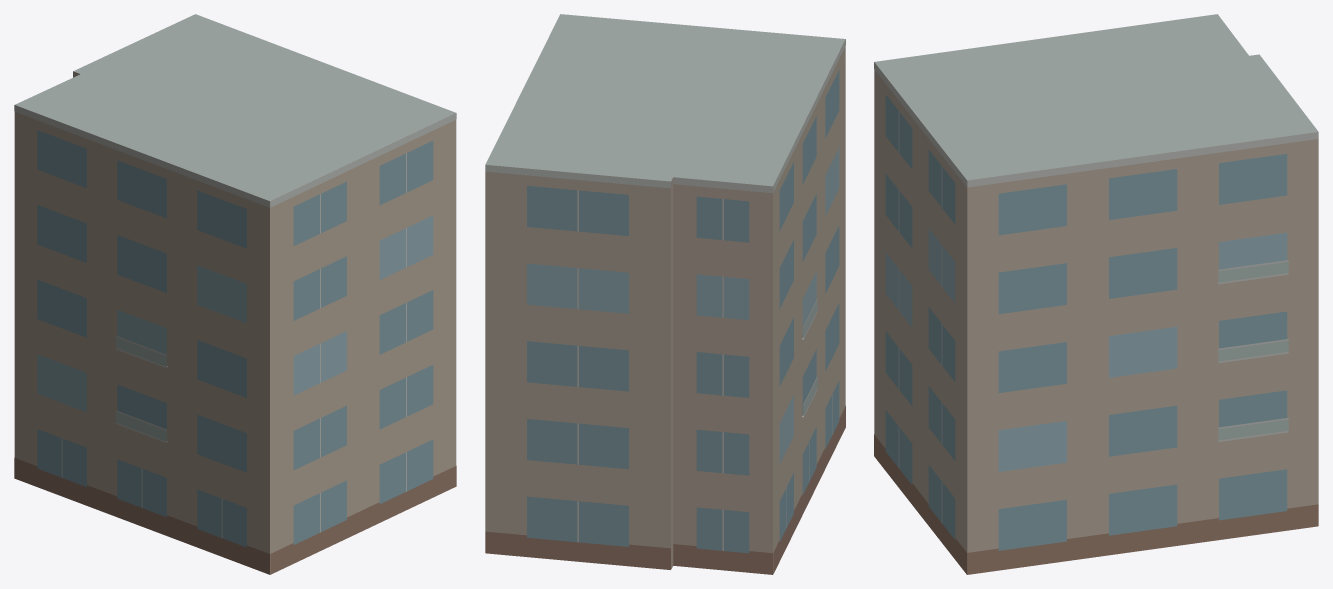
The model's file is survey-upis-32993389.glb.
The picture shows the model from 3 angles, left to right: view 1: azimuth 30°, elevation 25°; view 2: azimuth 150°, elevation 25°; view 3: azimuth 270°, elevation 25°; orthographic projection. The views are drawn at different scales.
Parts seen in each view (by area): view 1: survey-upis-32993389.tmp; view 2: survey-upis-32993389.tmp; view 3: survey-upis-32993389.tmp.
Part boxes in pixels (x1,y1,x2,y2): survey-upis-32993389.tmp: [14, 14, 456, 574]; survey-upis-32993389.tmp: [485, 14, 845, 574]; survey-upis-32993389.tmp: [874, 14, 1318, 574].
Bounding box in the file's own units: 12.51 × 13.8 × 14.11.
